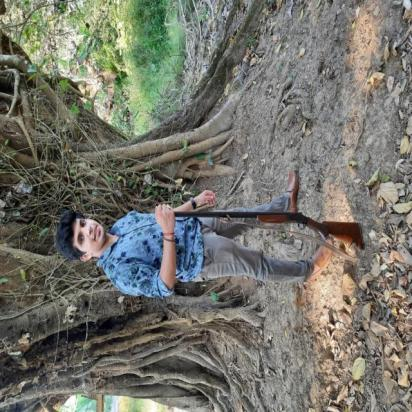Gun: (158, 204, 366, 253)
